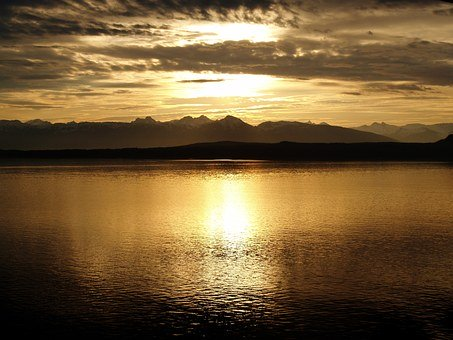mountain: (2, 121, 453, 165)
sea: (5, 168, 453, 339)
sky: (3, 1, 453, 119)
